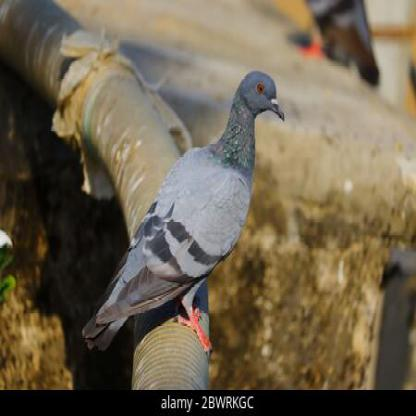Rock Pigeon: (86, 72, 287, 350)
